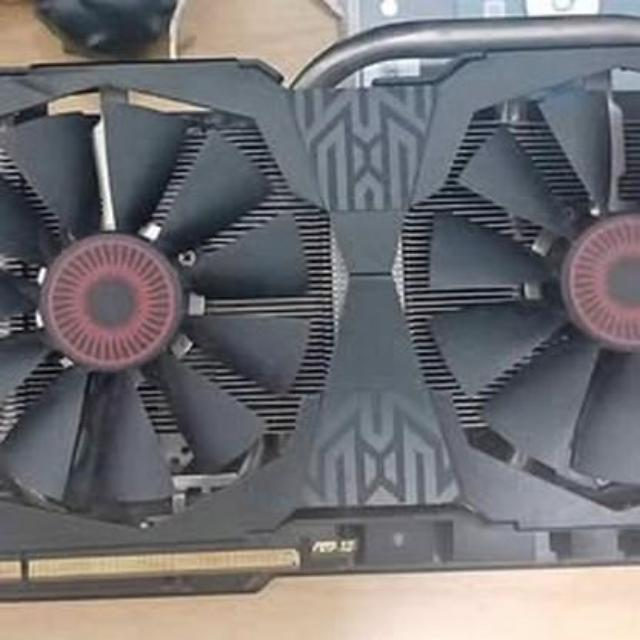GPU: (0, 55, 640, 607)
